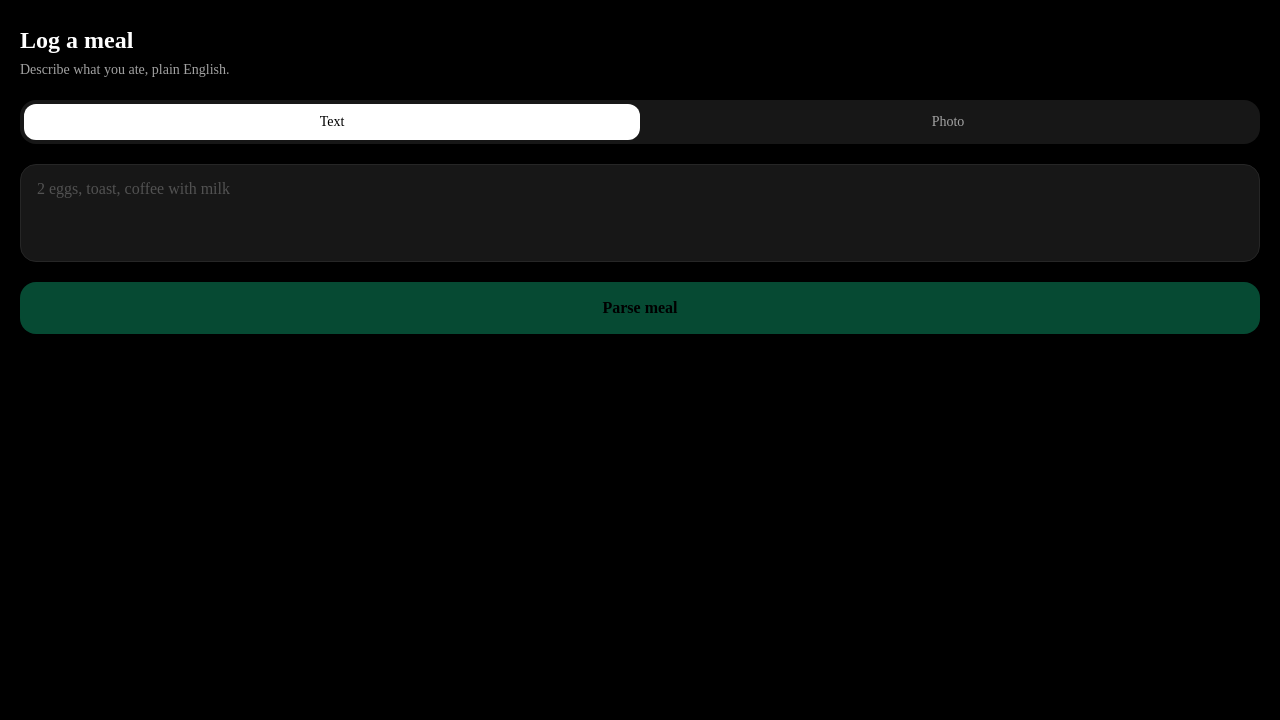
Test: LogScreen — BUG-01 double-tap save creates duplicate meals › disables the Save button once a save is in flight
Type "2 eggs" into the text box with placeholder "2 eggs, toast, coffee with milk".
click(640, 213); type("2 eggs")  # box [20, 164, 1260, 262]
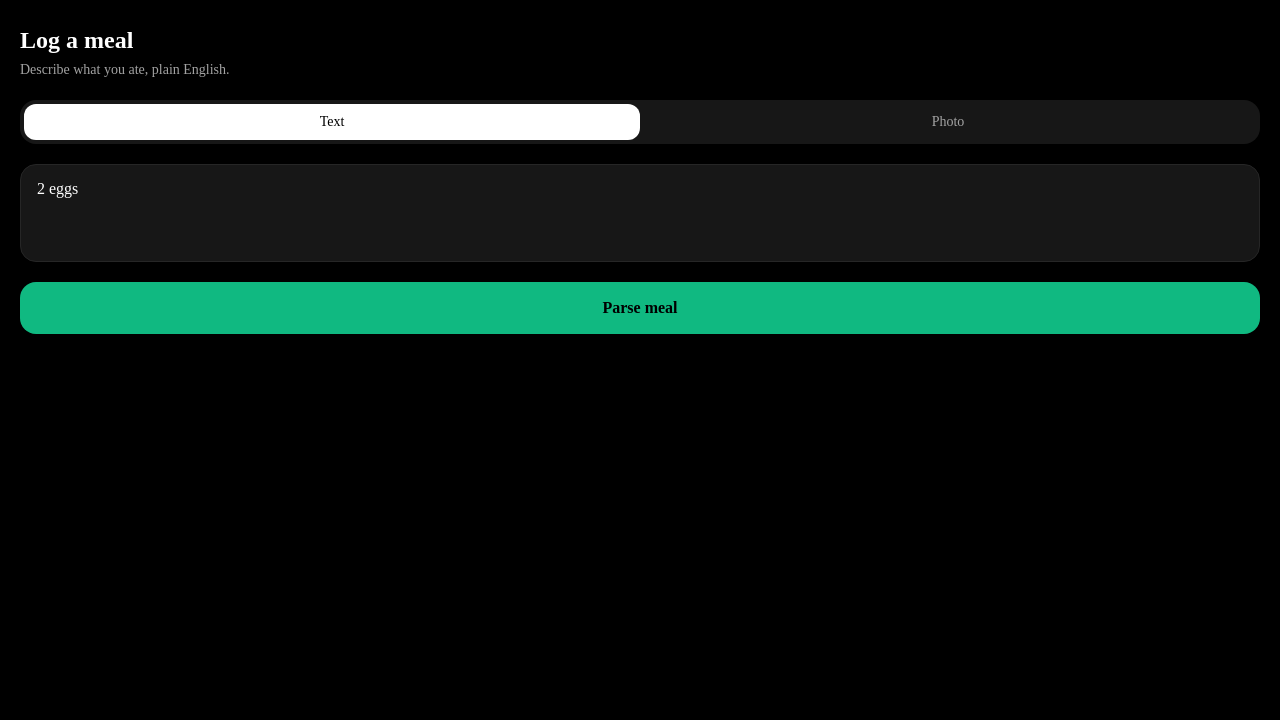
Click the button "Parse meal".
click(640, 308)  # box [20, 282, 1260, 334]
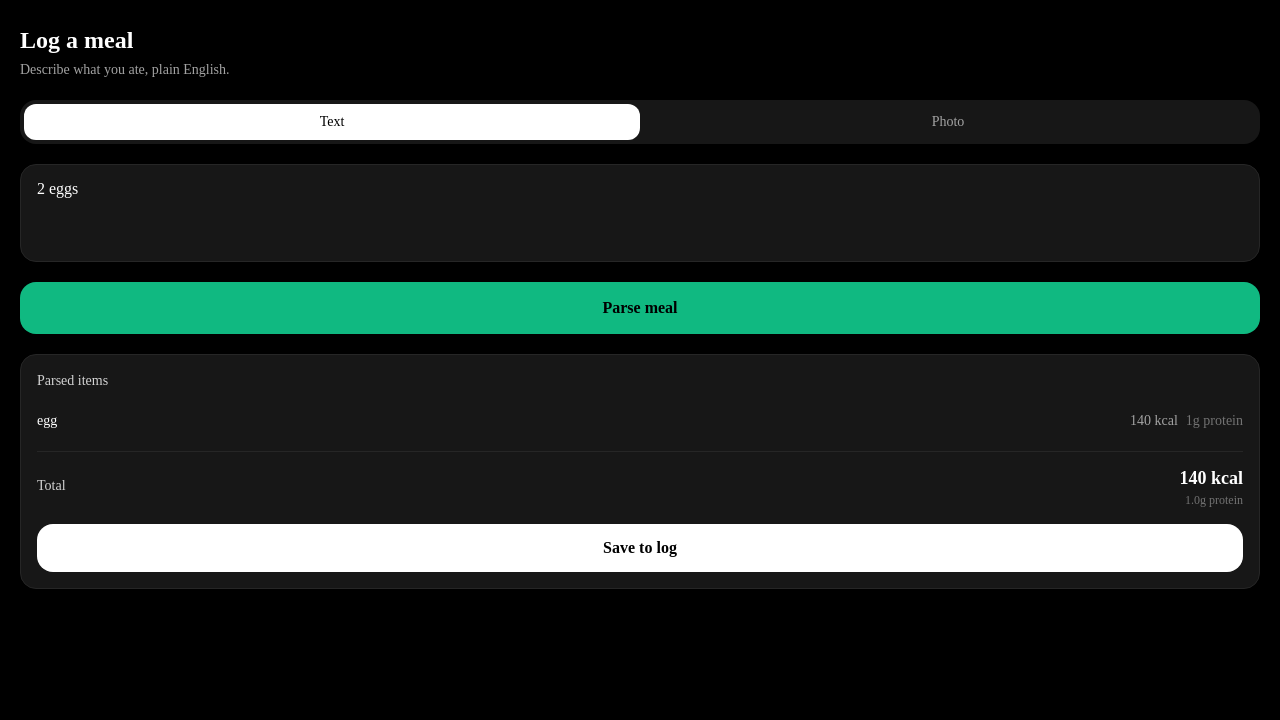
Click the button "Save to log".
click(640, 548)  # box [37, 524, 1243, 572]
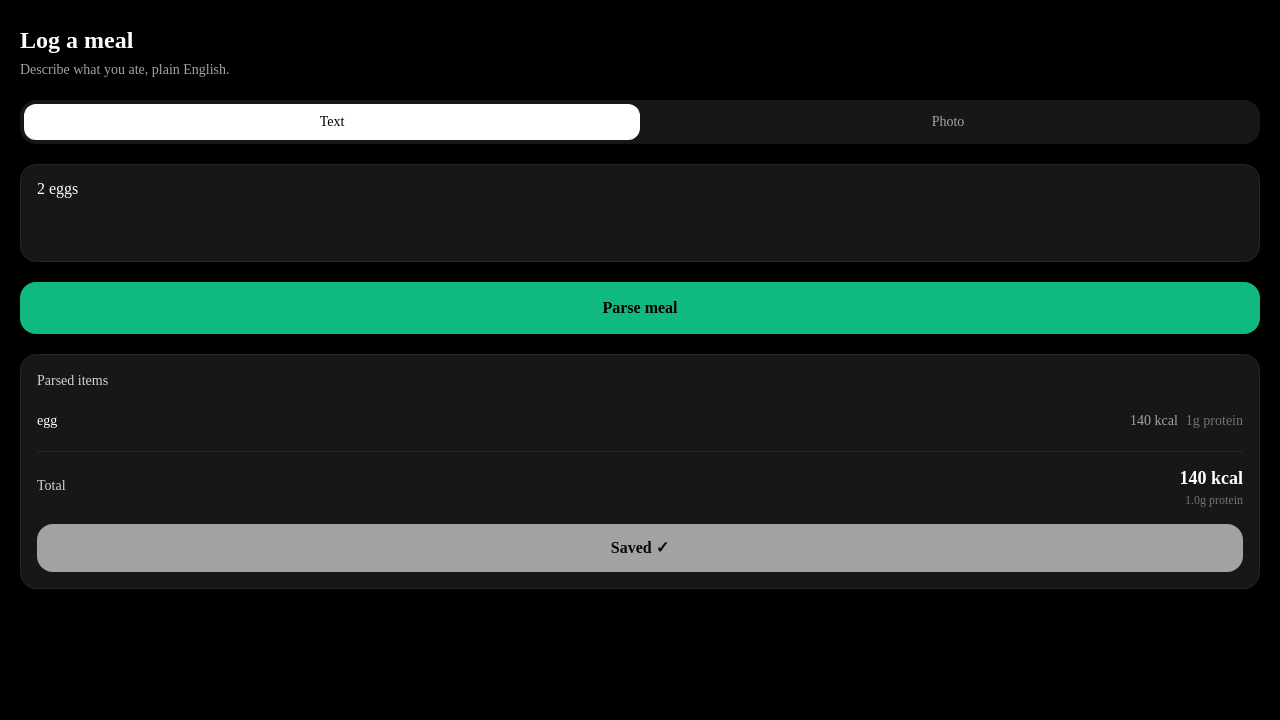
Now the button named "save to log" is disabled, box [37, 524, 1243, 572]
